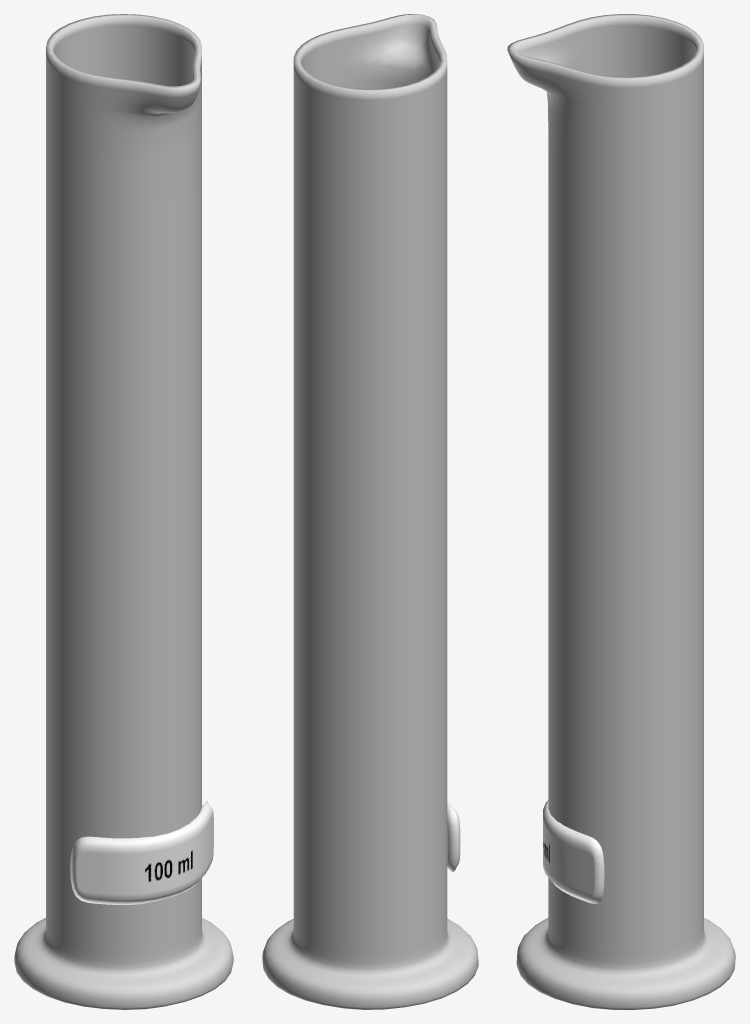
File: Gelas ukur 100.fbx
The picture shows the model from 3 angles, left to right: view 1: azimuth 30°, elevation 25°; view 2: azimuth 150°, elevation 25°; view 3: azimuth 270°, elevation 25°; orthographic projection.
Visible parts, largest first — view 1: Cube.054, Cube.102; view 2: Cube.054, Cube.102; view 3: Cube.054, Cube.102.
Part boxes in pixels (box(x1,y1,x2,y2)): Cube.054: box(14, 14, 233, 1009); Cube.102: box(70, 801, 213, 904); Cube.054: box(262, 14, 478, 1009); Cube.102: box(447, 801, 460, 872); Cube.054: box(507, 14, 735, 1009); Cube.102: box(543, 800, 604, 903).
Bounding box in the file's own units: 3.38 × 15.69 × 3.52.
2 materials, 1 textured.
